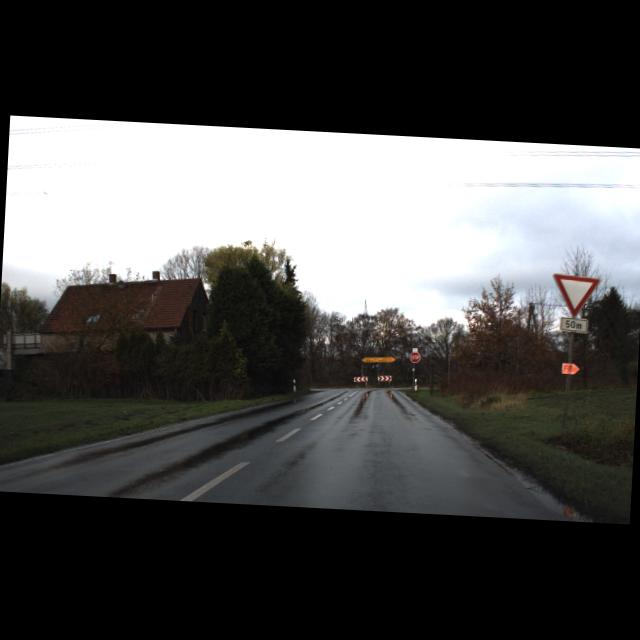other: (551, 274, 600, 319), (409, 352, 421, 364)
